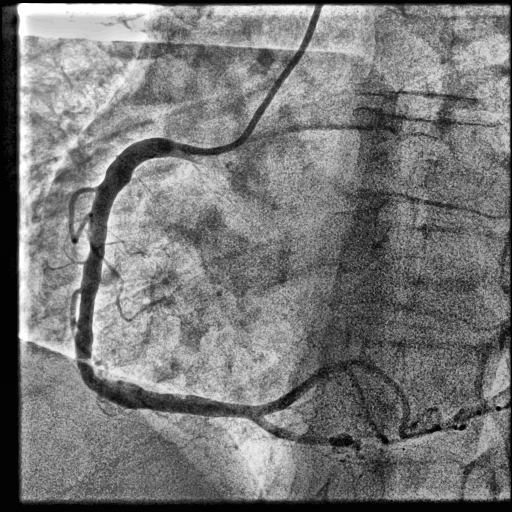pborca: (253, 359, 440, 440)
pda: (248, 417, 353, 446)
rca: (75, 137, 263, 418)
